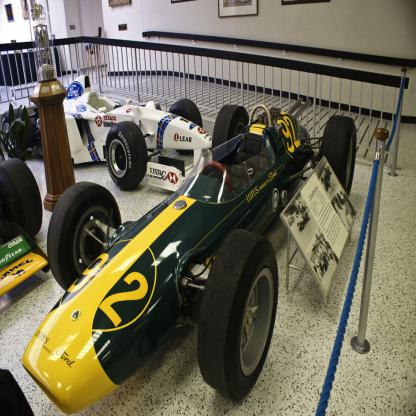Car: (29, 78, 345, 407), (0, 76, 215, 194), (0, 155, 52, 297)
